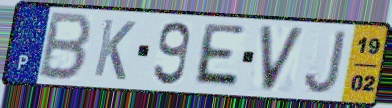9: (153, 21, 193, 86)
B: (35, 10, 95, 84)
E: (190, 21, 248, 91)
J: (302, 28, 349, 96)
K: (91, 17, 139, 83)
V: (257, 23, 308, 94)
